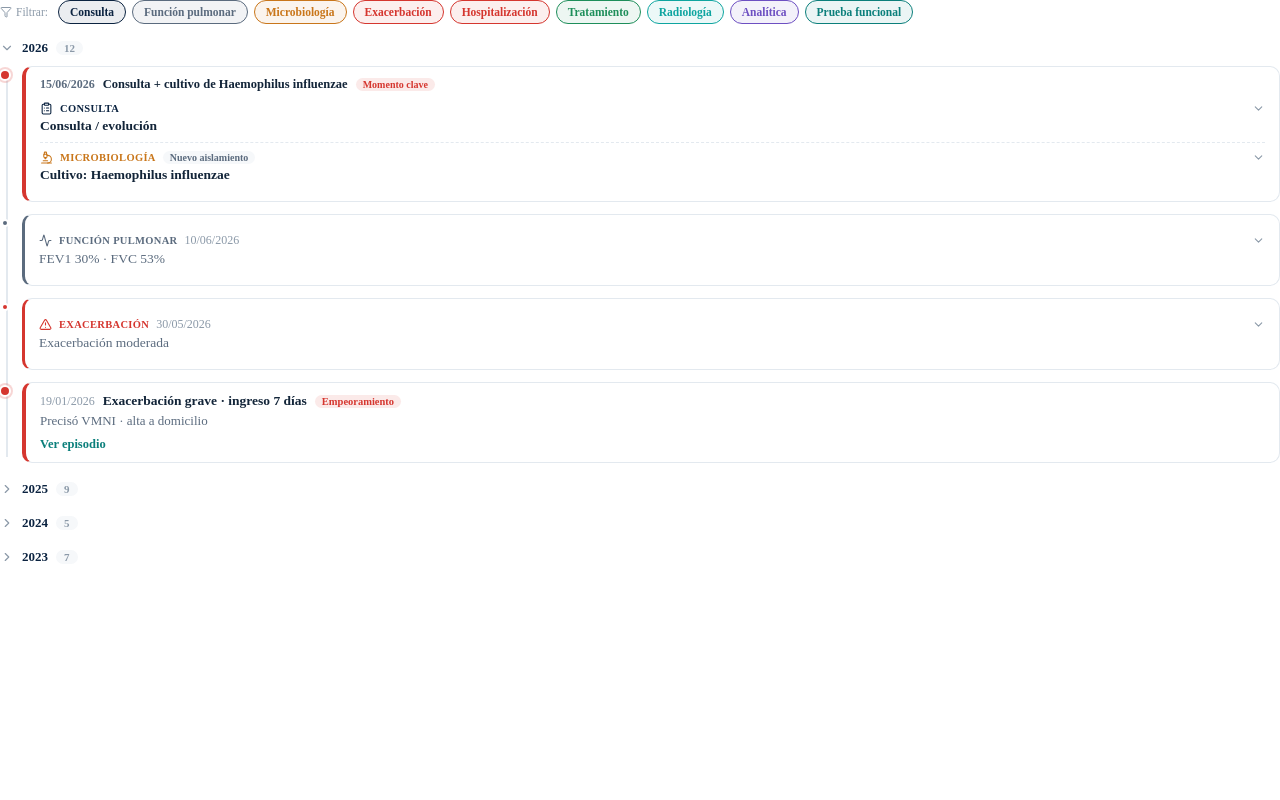
Test: TimelineTab › episodio de ingreso con datos completos (p2, 19/01/2026): titular con duración, línea de aviso, y detalle completo tras 'Ver episodio'
Expected: the text "Precisó VMNI · alta a domicilio" is shown, [40,413,208,428]
Click the button "Ver episodio": (73, 444) [40,437,106,452]
(page scrolled)
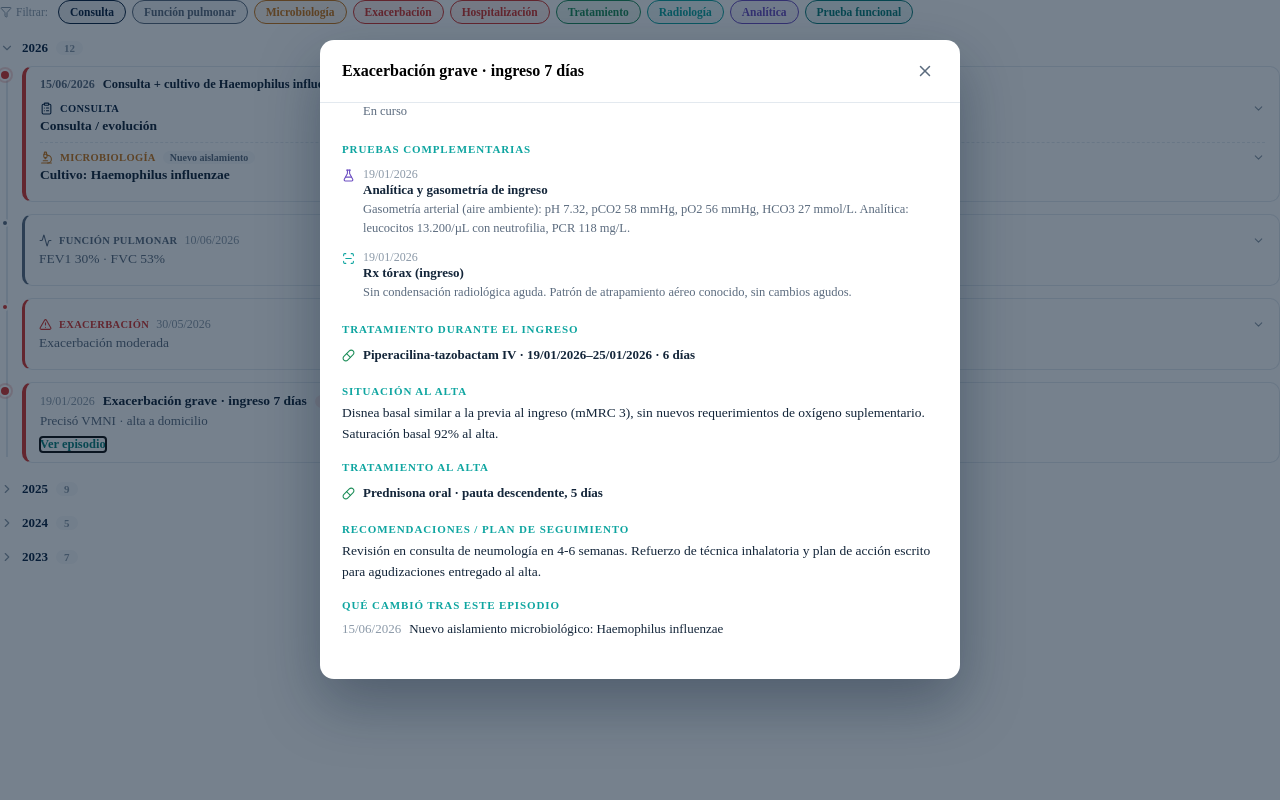
Now the text "Pruebas complementarias" is shown, box [342,143,531,155]
Now the text "Analítica y gasometría de ingreso" is shown, box [363,182,548,197]
Now the text "Rx tórax (ingreso)" is shown, box [363,265,464,280]
